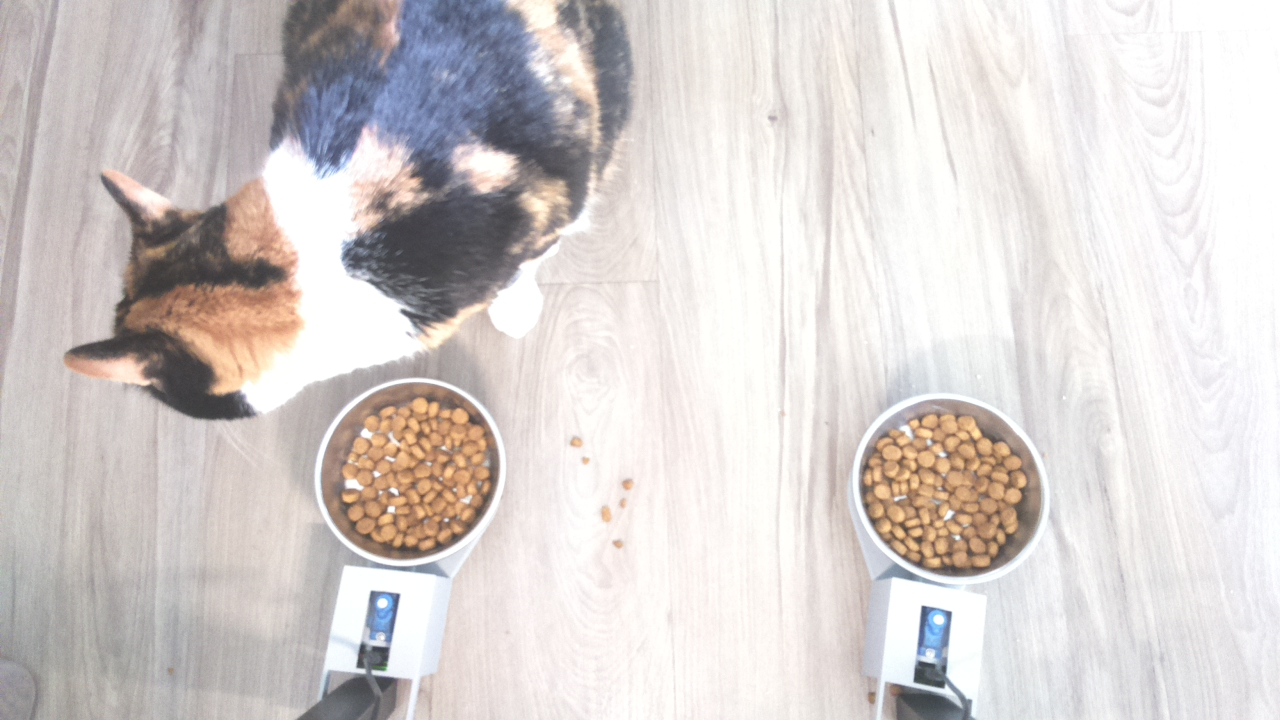bella: (63, 156, 347, 418)
open_bowl: (850, 391, 1051, 585), (316, 376, 509, 571)
